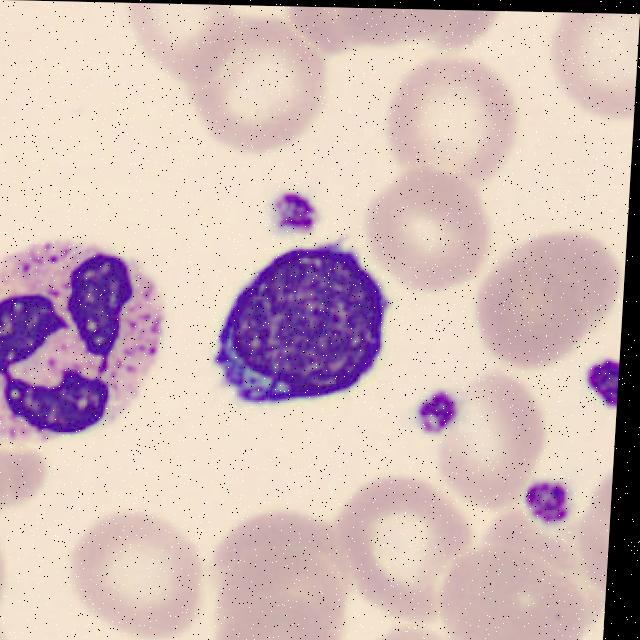lymphocyte: (208, 238, 395, 421)
neutrophil: (0, 199, 188, 440)
platelets: (270, 179, 318, 243), (409, 385, 461, 437), (520, 478, 571, 531), (582, 350, 620, 412)
rbc: (335, 482, 471, 611), (365, 167, 498, 293), (67, 509, 198, 636), (186, 38, 328, 151), (446, 542, 606, 640), (432, 373, 546, 503), (495, 232, 622, 346), (389, 68, 517, 176), (464, 489, 590, 591), (464, 270, 582, 377), (209, 506, 370, 583), (114, 3, 244, 83), (551, 12, 640, 113), (216, 550, 355, 610), (212, 584, 348, 640), (332, 7, 469, 55), (2, 436, 65, 509), (577, 466, 613, 593), (412, 9, 508, 54), (288, 7, 371, 59), (0, 441, 22, 530), (366, 629, 464, 640), (0, 542, 14, 615), (0, 613, 15, 640), (510, 486, 512, 488), (338, 72, 339, 73)
